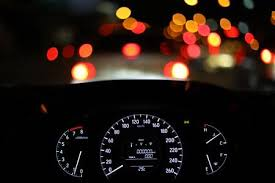Digital_Meter: (124, 148, 159, 160)
